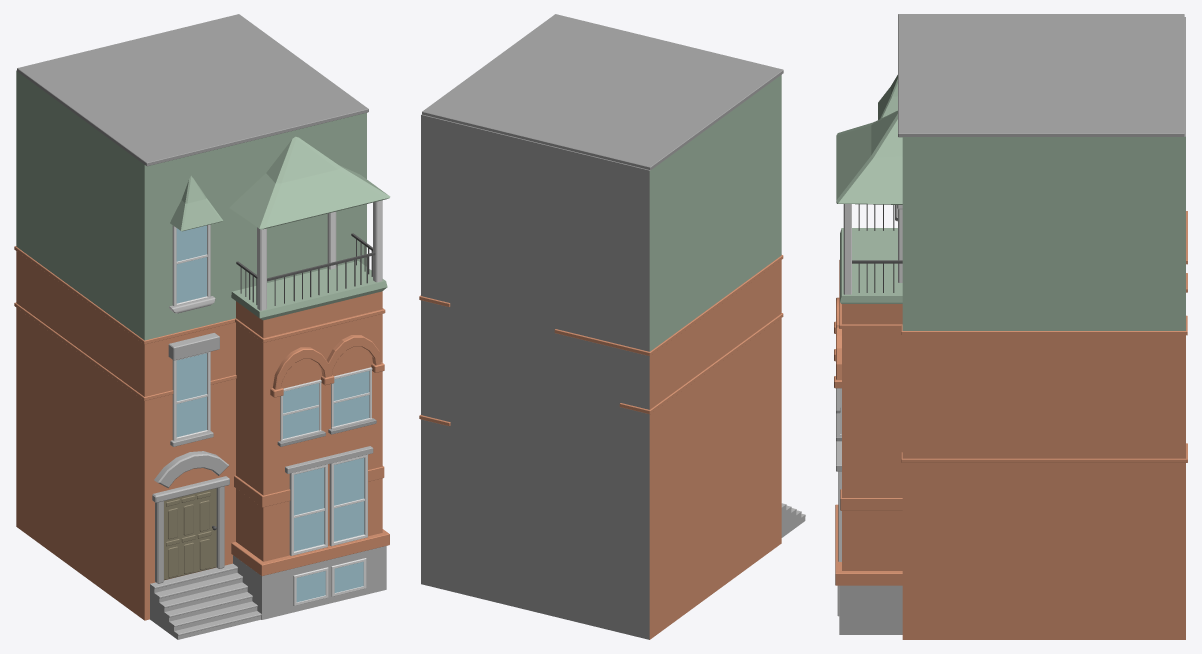
The model's file is BolunHouse2.fbx.
3 views of the same model, side by side, from view 1: azimuth 30°, elevation 25°; view 2: azimuth 150°, elevation 25°; view 3: azimuth 270°, elevation 25° (orthographic). The views are drawn at different scales.
Visible parts, largest first — view 1: pCube316; view 2: pCube316; view 3: pCube316.
Boxes of the visible parts, <box> form: pCube316: <box>14,14,390,639</box>; pCube316: <box>419,14,805,639</box>; pCube316: <box>834,14,1187,639</box>.
Bounding box in the file's own units: 5.06 × 9.87 × 6.25.
